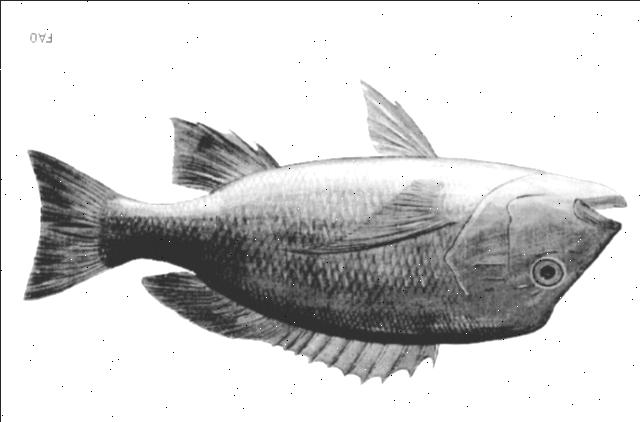Mulut: (569, 181, 629, 243)
Sirip Anal: (164, 108, 292, 200)
Sirip Dada: (279, 170, 451, 266)
Sirip Ekor: (17, 144, 107, 308)
Sirip Perut: (349, 76, 439, 166)
Sirip Punggung: (138, 264, 448, 396)
